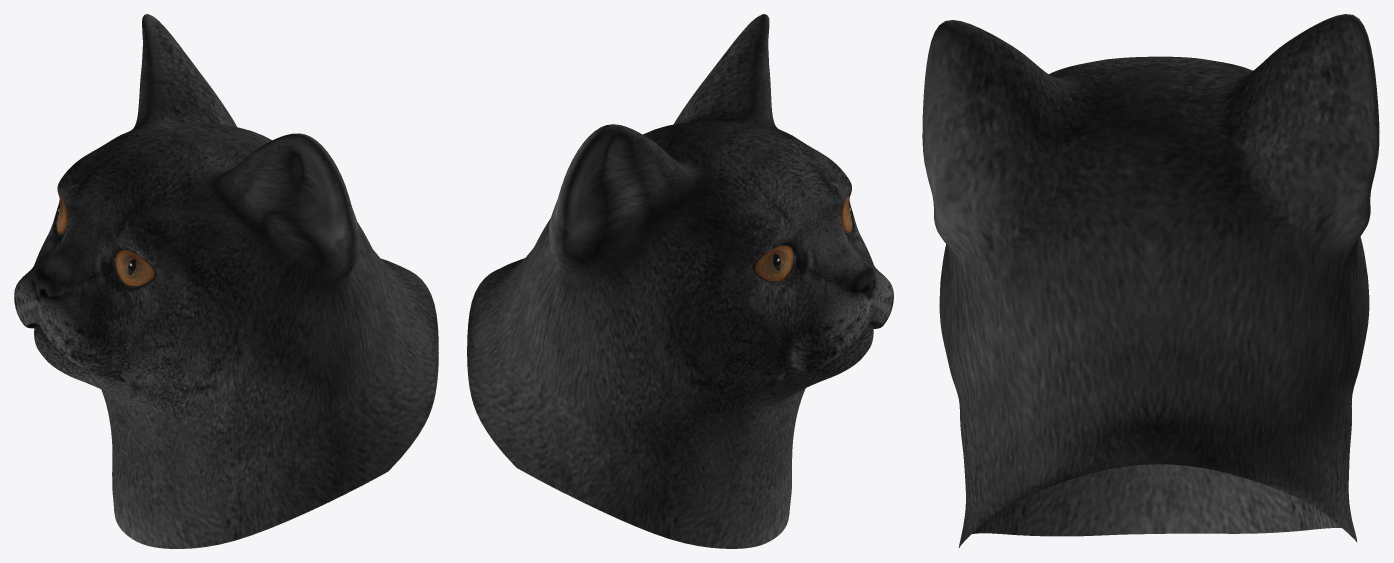
File: cabeza.fbx
3 renders of one model, left to right at view 1: azimuth 30°, elevation 25°; view 2: azimuth 150°, elevation 25°; view 3: azimuth 270°, elevation 25°, orthographic. The views are drawn at different scales.
Visible parts, largest first — view 1: Cat; view 2: Cat; view 3: Cat.
Boxes of the visible parts, x1=… form: Cat: x1=14, y1=14, x2=438, y2=548; Cat: x1=467, y1=14, x2=893, y2=548; Cat: x1=922, y1=14, x2=1379, y2=547.
Bounding box in the file's own units: 1558 × 1732 × 1245.
